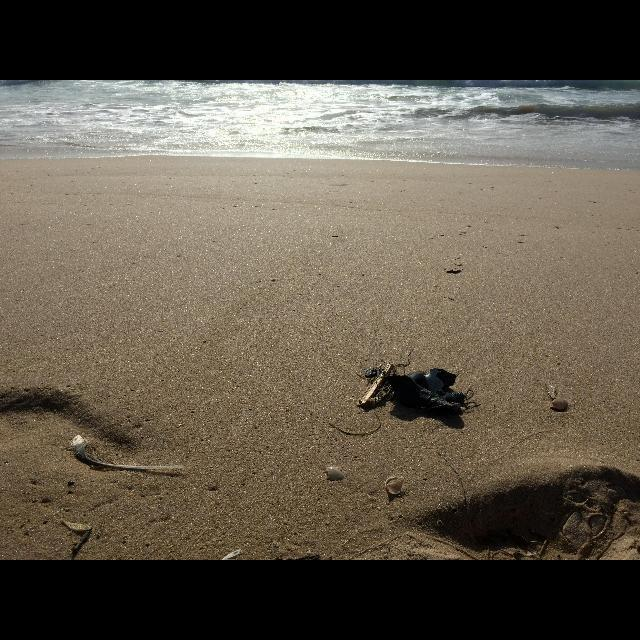Plastic: (384, 368, 464, 416)
